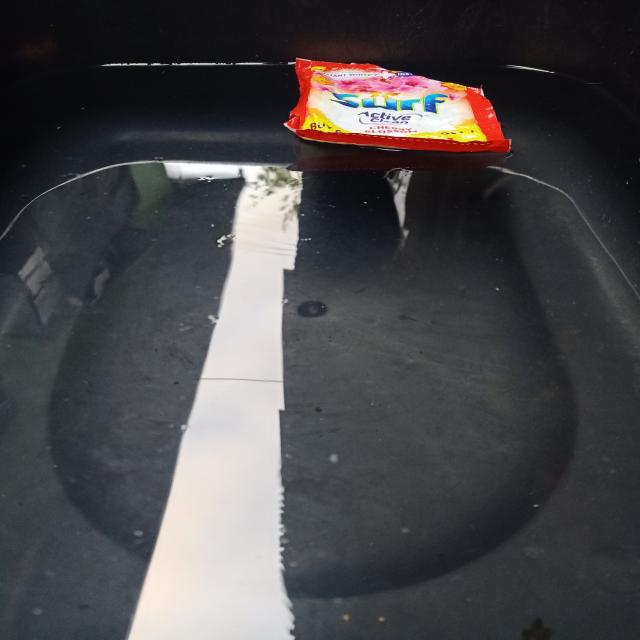Plastic Wrapper: (256, 39, 535, 180)
